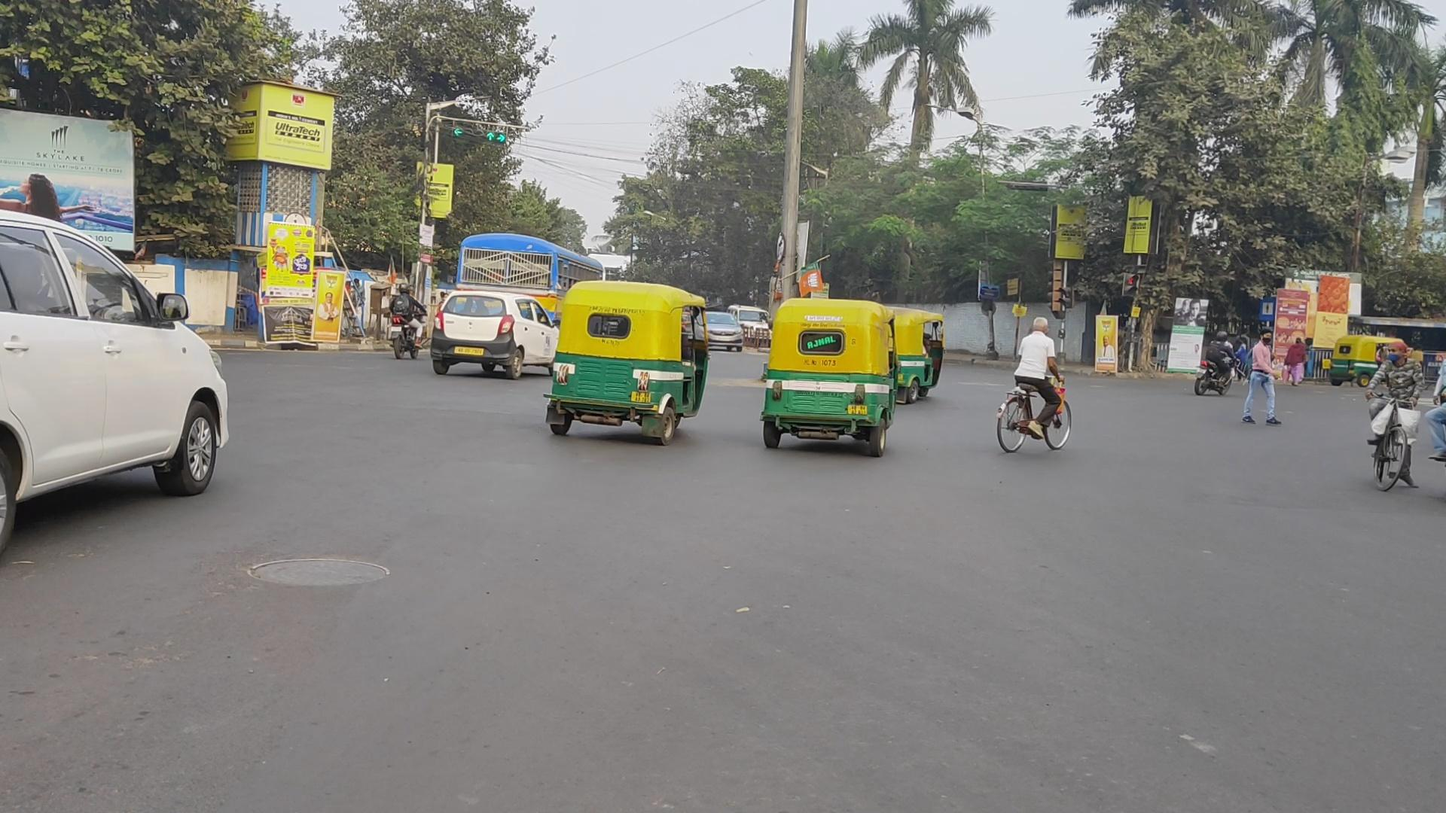Auto: (542, 279, 711, 444), (759, 298, 896, 457), (889, 306, 947, 404), (1329, 333, 1405, 388)
Bus: (457, 232, 609, 361)
bike: (997, 316, 1072, 452), (1366, 341, 1426, 492), (386, 285, 428, 360), (1194, 332, 1240, 398)
car: (1, 209, 230, 566), (431, 290, 560, 380), (729, 303, 773, 350), (695, 309, 743, 352)
